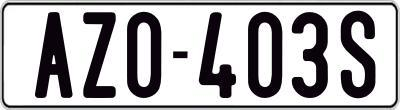0: (127, 11, 167, 100), (248, 12, 283, 104)
3: (290, 12, 331, 101)
4: (197, 12, 235, 99)
A: (34, 12, 78, 100)
S: (338, 8, 377, 99)
Z: (81, 11, 118, 100)
